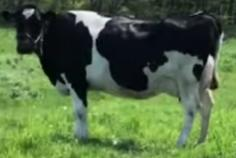cow: (0, 5, 224, 146)
